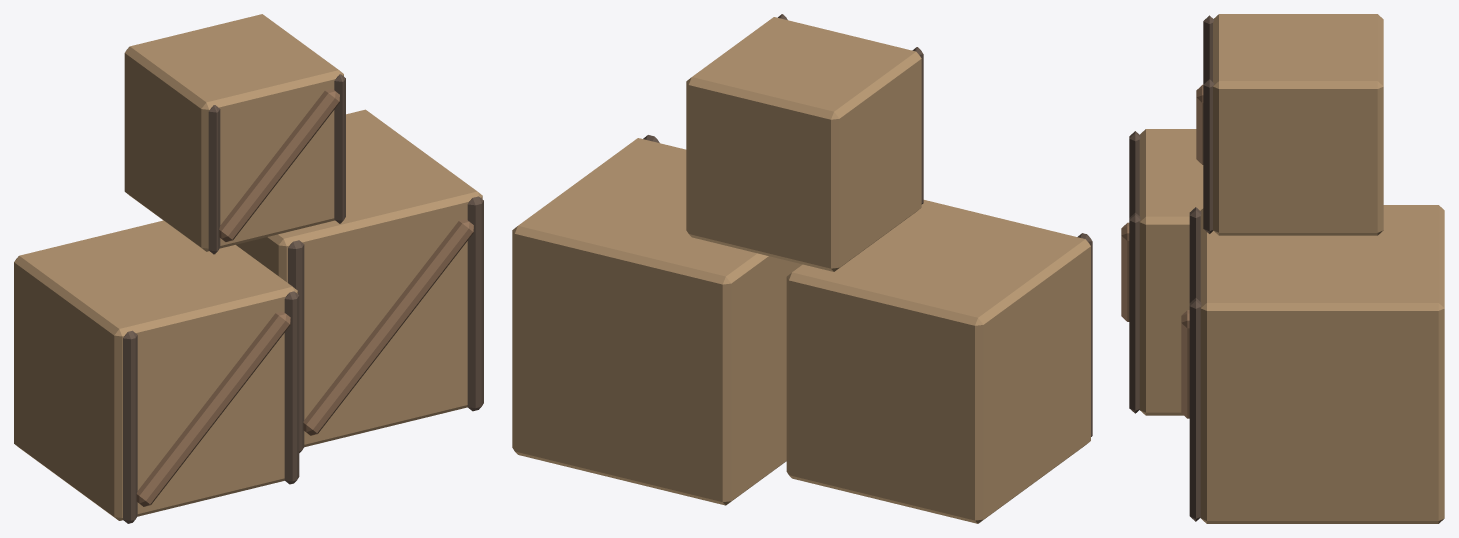
The model's file is crate_cluster.glb.
The picture shows the model from 3 angles, left to right: view 1: azimuth 30°, elevation 25°; view 2: azimuth 150°, elevation 25°; view 3: azimuth 270°, elevation 25°; orthographic projection. The views are drawn at different scales.
Visible parts, largest first — view 1: TV_crate_cluster; view 2: TV_crate_cluster; view 3: TV_crate_cluster.
Boxes of the visible parts, bbox=[...] form: TV_crate_cluster: bbox=[14, 14, 483, 523]; TV_crate_cluster: bbox=[512, 14, 1092, 523]; TV_crate_cluster: bbox=[1121, 14, 1444, 523].
Bounding box in the file's own units: 1.95 × 1.7 × 1.33.
